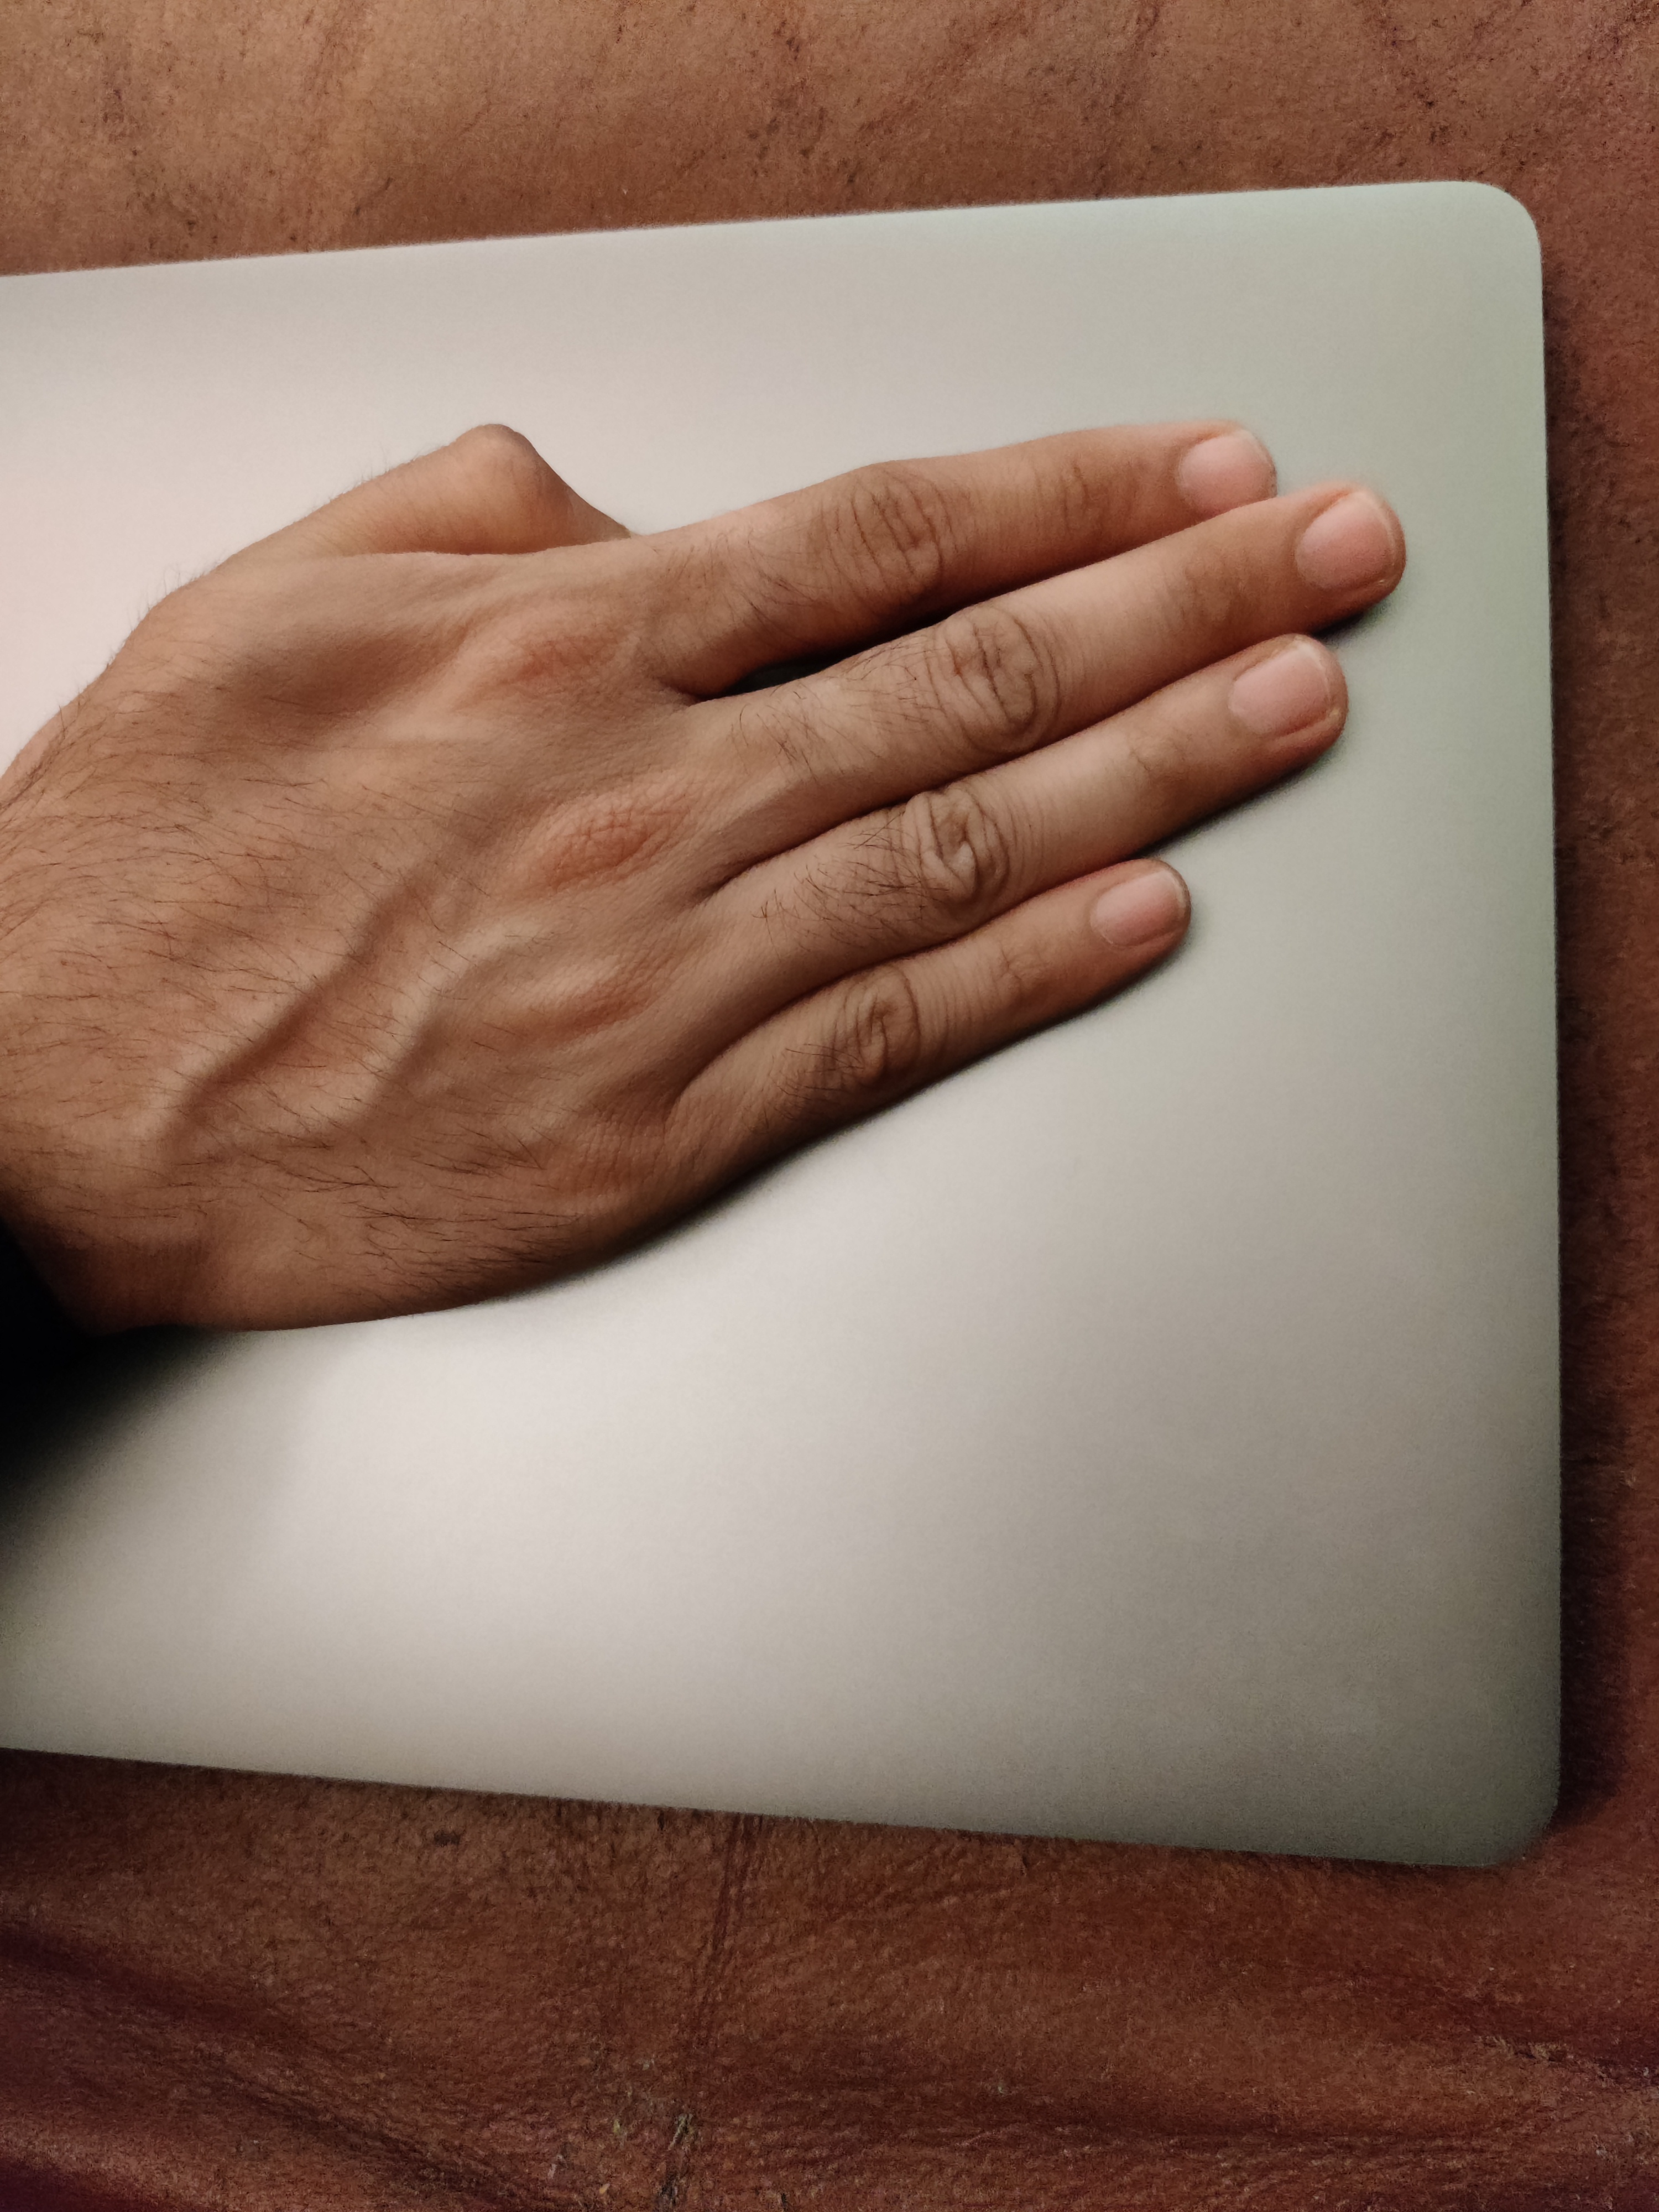left: (54, 374, 1511, 1322)
